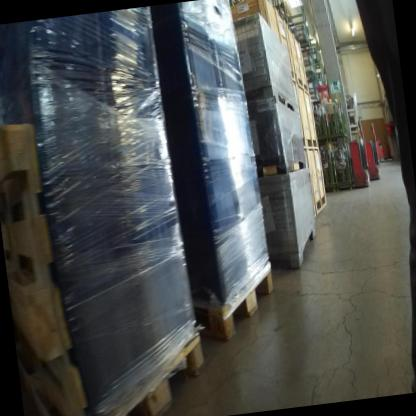pallet: (0, 106, 96, 416), (81, 328, 209, 416), (182, 261, 283, 351), (268, 219, 322, 272), (244, 79, 300, 121), (254, 149, 312, 185), (296, 35, 312, 54), (313, 57, 325, 74), (275, 15, 293, 25), (306, 72, 318, 82)
pallet_truck: (344, 111, 373, 190), (358, 118, 384, 183), (370, 128, 394, 166)
